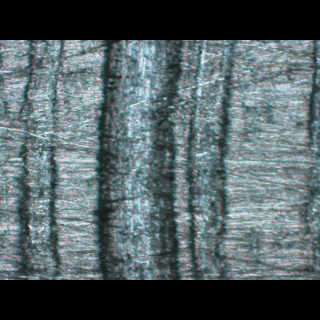d: (93, 40, 234, 279), (5, 40, 67, 278)
